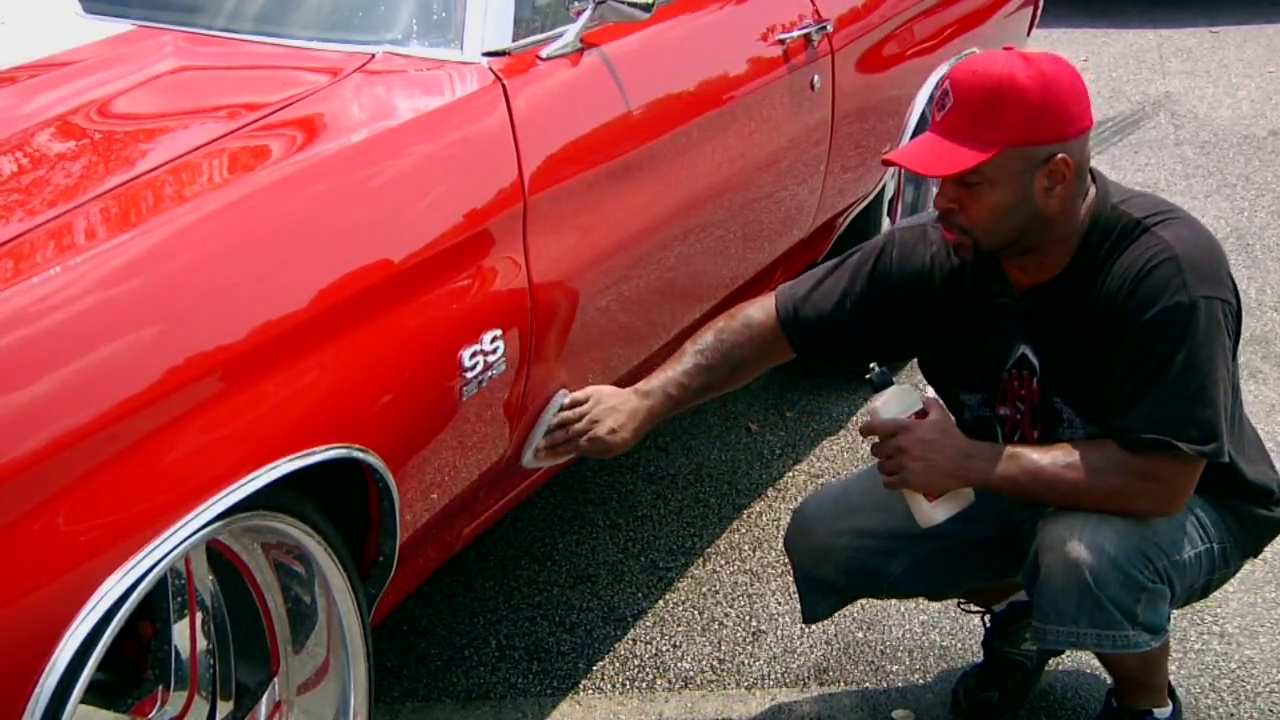person: (536, 45, 1280, 719)
